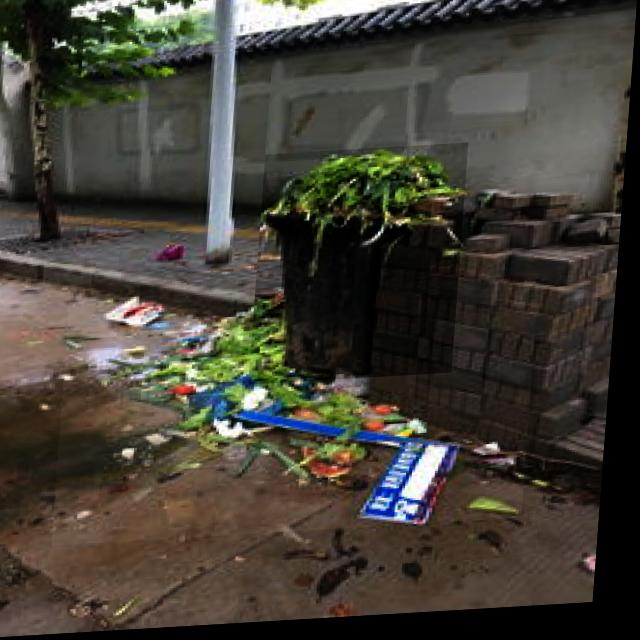garbage: (60, 280, 544, 547)
overflow: (255, 149, 471, 389)
